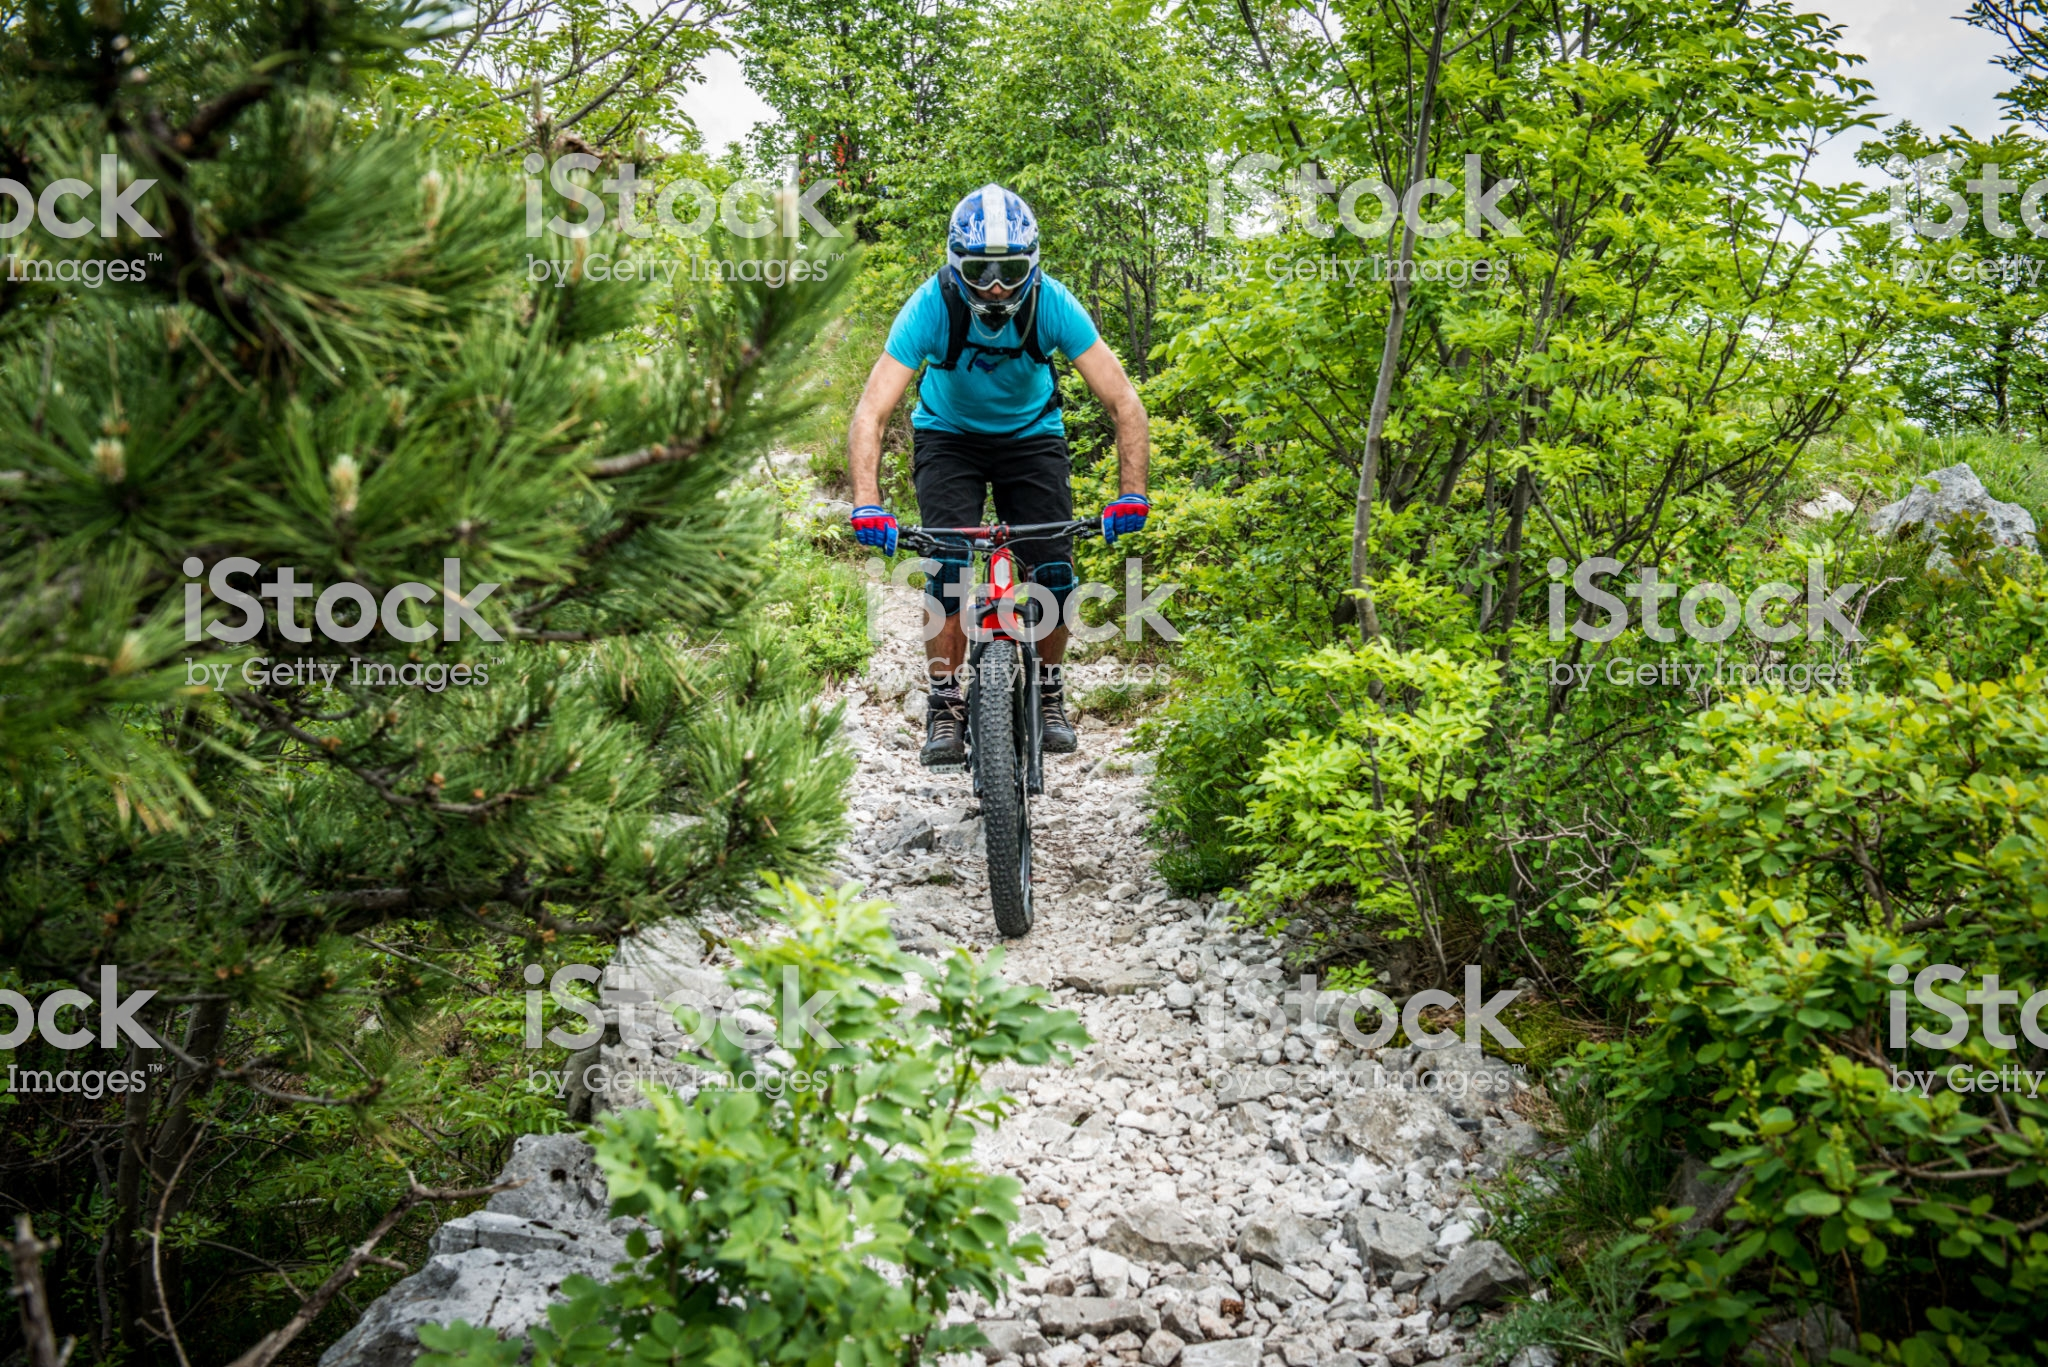helmet: (938, 182, 1045, 307)
